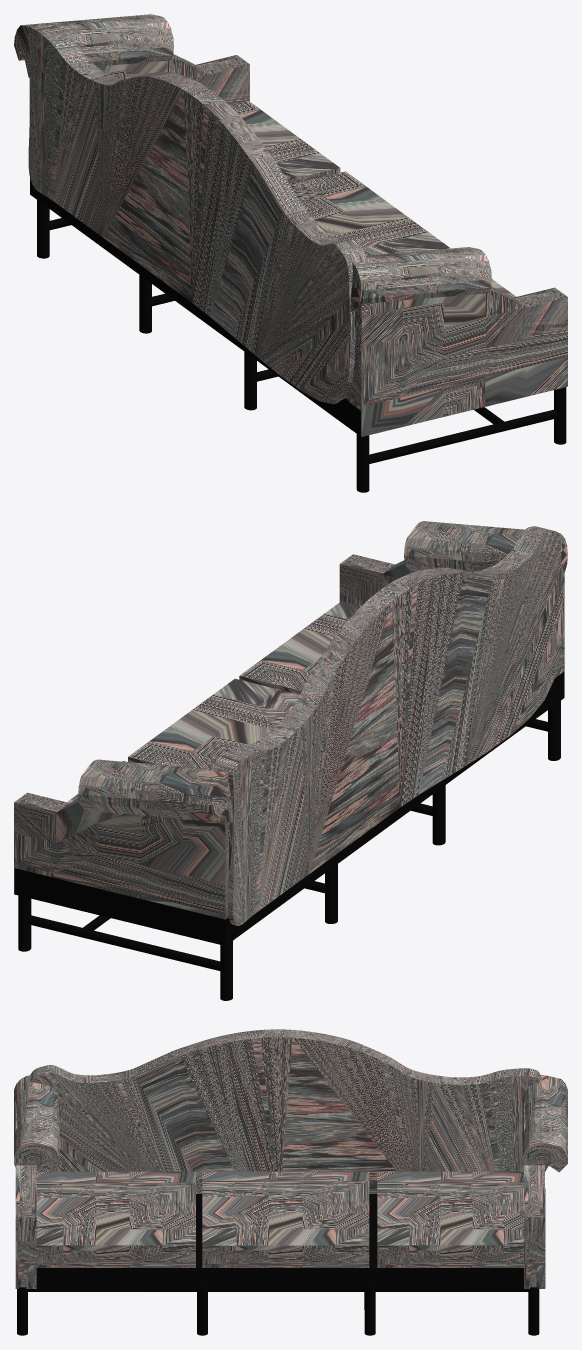
The model's file is couch.dae.
3 views of the same model, one above another, from view 1: azimuth 30°, elevation 25°; view 2: azimuth 150°, elevation 25°; view 3: azimuth 270°, elevation 25° (orthographic). The views are drawn at different scales.
Visible parts, largest first — view 1: node; view 2: node; view 3: node.
Part boxes in pixels (box(x1,y1,x2,y2)): node: box(14, 14, 567, 492); node: box(14, 521, 567, 1000); node: box(14, 1029, 567, 1335).
Bounding box in the file's own units: 0.7302 × 0.916 × 2.06.
